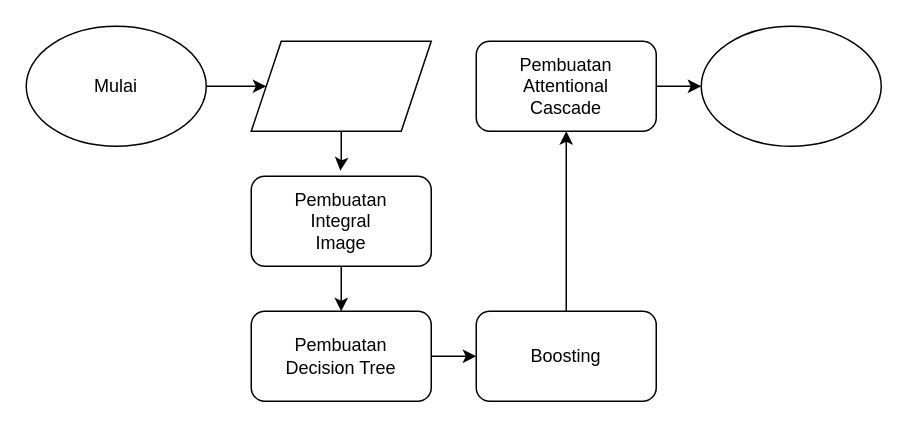
The diagram is 908 pixels wide and 428 high, and some of its shapes have lost their labels. The shapes that lost their labels are listed below. From the top down, each one's box as (x1, y1, x2, y2) in pixels, then its label:
(250, 40, 431, 131): Input Dataset Pelatihan
(700, 25, 881, 146): Selesai
